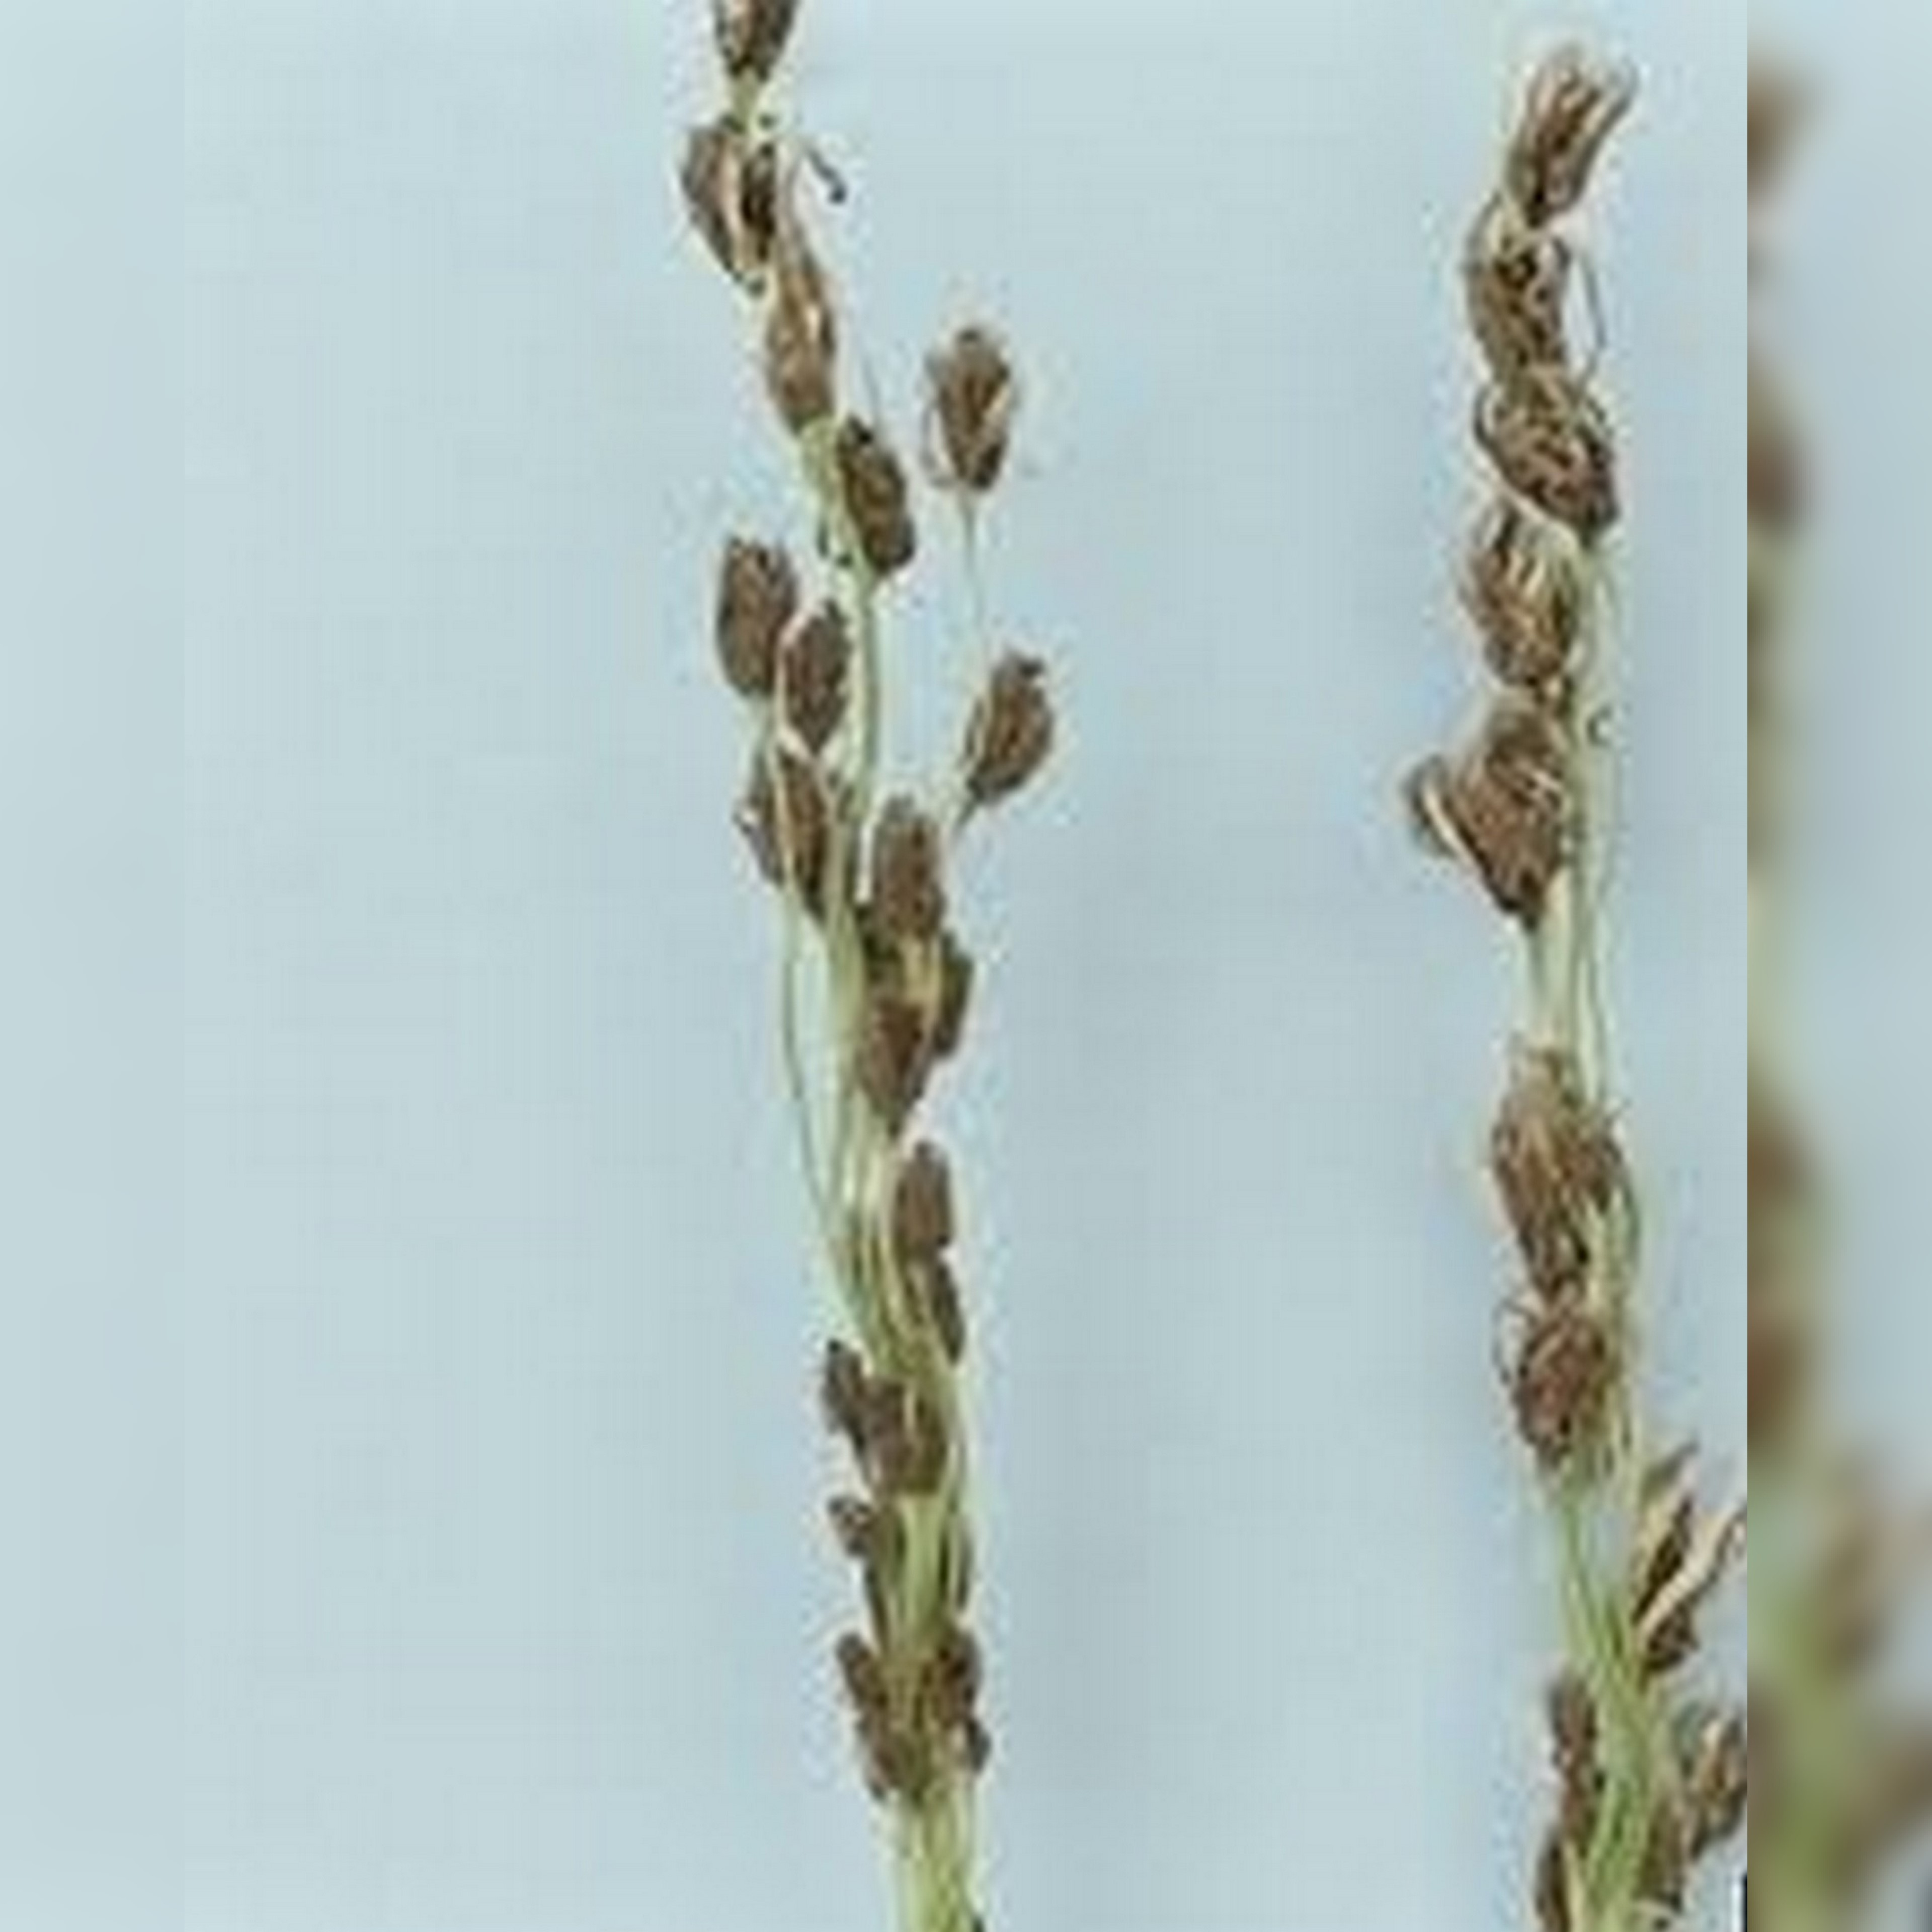Wheat Loose Smut: (665, 133, 1106, 1851)
